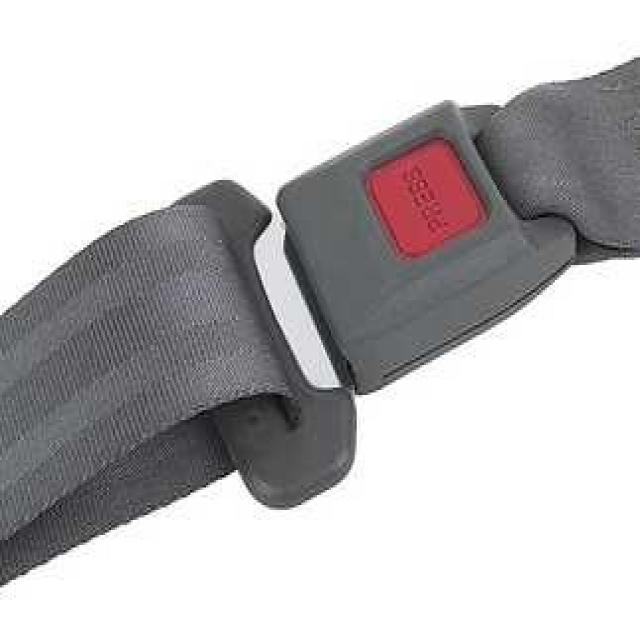seatbelt: (6, 50, 630, 538)
